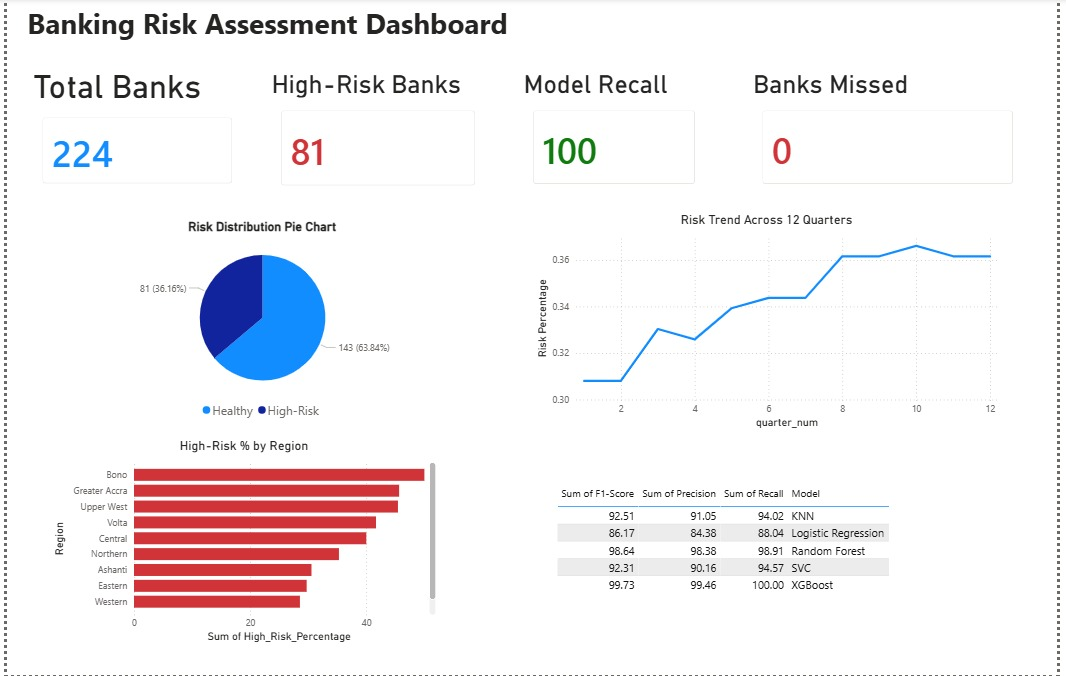

Layout of this report page (visuals, bound fields, positions):
{"tool":"powerbi","page":{"name":"Executive Overview","canvas":[1400,900],"ordinal":0},"visuals":[{"type":"textbox","box":[9.4,0,674.7,90.7],"z":0},{"type":"cardVisual","title":"Total Banks","fields":{"Data":["Max(pbi_key_metrics.Value)"]},"box":[30.2,90.7,287.2,172],"z":1000},{"type":"cardVisual","title":"High-Risk Banks","fields":{"Data":["Max(pbi_key_metrics.Value)"]},"box":[348.1,91.1,293.5,172],"z":2000},{"type":"cardVisual","title":"Model Recall","fields":{"Data":["Sum(pbi_key_metrics.Value)"]},"box":[684.1,91.1,251,170],"z":3000},{"type":"cardVisual","title":"Banks Missed","fields":{"Data":["Sum(pbi_key_metrics.Value)"]},"box":[989.8,91.1,368.4,170],"z":4000},{"type":"lineChart","title":"Risk Trend Across 12 Quarters","fields":{"Category":["pbi_quarterly_data.quarter_num"],"Y":["Avg(pbi_quarterly_data.financial_health_status)"]},"box":[700.3,281.3,625.4,293.5],"z":5000},{"type":"pieChart","title":"Risk Distribution Pie Chart","fields":{"Category":["pbi_bank_details.actual_status_label"],"Y":["CountNonNull(pbi_bank_details.bank_id)"]},"box":[56.7,291.5,568.8,275.3],"z":5001},{"type":"clusteredBarChart","title":"High-Risk % by Region","fields":{"Y":["Sum(pbi_regional_summary (2).High_Risk_Percentage)"],"Category":["pbi_regional_summary (2).Region"]},"box":[56.7,584.9,520.2,277.3],"z":5002},{"type":"tableEx","fields":{"Values":["Sum(pbi_model_performance.F1-Score)","Sum(pbi_model_performance.Precision)","Sum(pbi_model_performance.Recall)","pbi_model_performance.Model"]},"box":[728.7,641.6,520.2,163.9],"z":5003}]}

Visuals, with their boxes in screenshot pixels (x1, y1, x2, y2), scaled from the page's 1400x900 canvas onto the 1066x676 screenshot:
textbox: <bbox>7, 0, 521, 68</bbox>
"Total Banks" cardVisual: <bbox>23, 68, 242, 197</bbox>
"High-Risk Banks" cardVisual: <bbox>265, 68, 489, 198</bbox>
"Model Recall" cardVisual: <bbox>521, 68, 712, 196</bbox>
"Banks Missed" cardVisual: <bbox>754, 68, 1034, 196</bbox>
"Risk Trend Across 12 Quarters" lineChart: <bbox>533, 211, 1009, 432</bbox>
"Risk Distribution Pie Chart" pieChart: <bbox>43, 219, 476, 426</bbox>
"High-Risk % by Region" clusteredBarChart: <bbox>43, 439, 439, 648</bbox>
tableEx - Sum(pbi_model_performance.F1-Score) x Sum(pbi_model_performance.Precision): <bbox>555, 482, 951, 605</bbox>
